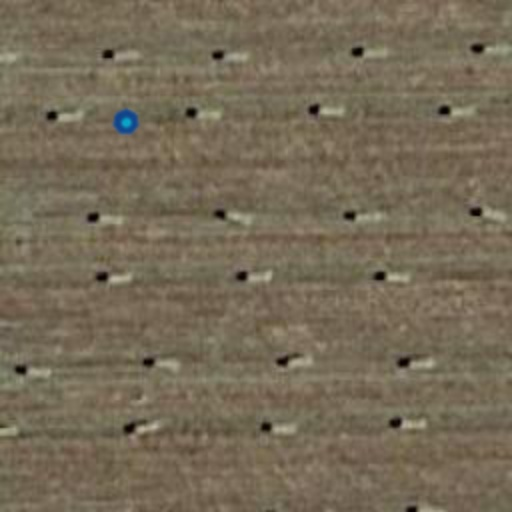heptagon: (106, 102, 146, 142)
